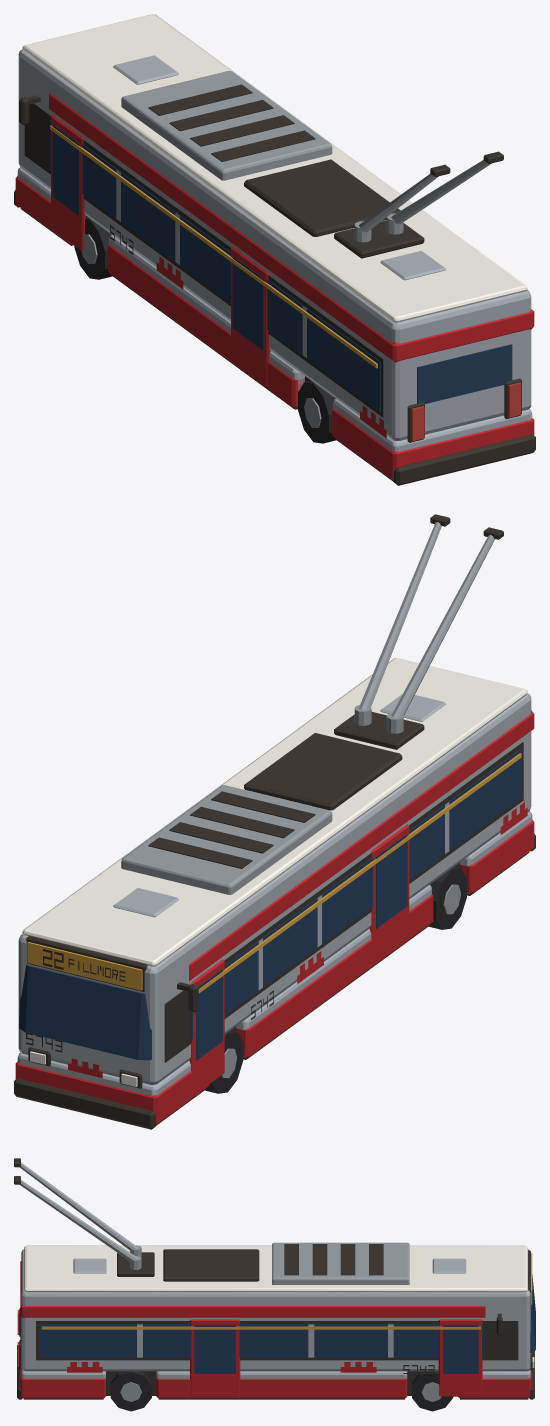
File: muni-trolley-40-22-fillmore.glb
The picture shows the model from 3 angles, top to bottom: view 1: azimuth 30°, elevation 25°; view 2: azimuth 150°, elevation 25°; view 3: azimuth 270°, elevation 25°; orthographic projection. The views are drawn at different scales.
Parts seen in each view (by area): view 1: Toy_silver, Toy_white, Toy_munired, Toy_ink, Toy_glass, Toy_steel, Toy_tire, Toy_mustard_Glow, Toy_red_Glow; view 2: Toy_silver, Toy_white, Toy_glass, Toy_ink, Toy_munired, Toy_steel, Toy_mustard_Glow, Toy_tire; view 3: Toy_silver, Toy_munired, Toy_glass, Toy_white, Toy_ink, Toy_steel, Toy_tire, Toy_mustard_Glow.
Part boxes in pixels (x1,y1,x2,y2): Toy_silver: (17,49,532,451); Toy_white: (22,14,527,322); Toy_munired: (15,93,534,480); Toy_ink: (14,84,535,485); Toy_glass: (49,120,512,411); Toy_steel: (81,70,491,427); Toy_tire: (74,216,336,443); Toy_mustard_Glow: (50,125,377,368); Toy_red_Glow: (411,382,521,441); Toy_silver: (17,693,532,1095); Toy_white: (22,658,527,966); Toy_glass: (19,748,521,1060); Toy_ink: (14,514,535,1129); Toy_munired: (15,710,534,1124); Toy_steel: (121,522,494,1078); Toy_mustard_Glow: (27,753,521,993); Toy_tire: (205,867,466,1093); Toy_silver: (21,1249,530,1378); Toy_munired: (20,1261,531,1398); Toy_glass: (20,1275,535,1373); Toy_white: (24,1245,527,1292); Toy_ink: (14,1158,534,1399); Toy_steel: (20,1162,441,1401); Toy_tire: (110,1371,453,1411); Toy_mustard_Glow: (41,1253,532,1329).
Size of the model in its own units: 3.3 by 5.79 by 12.49.
